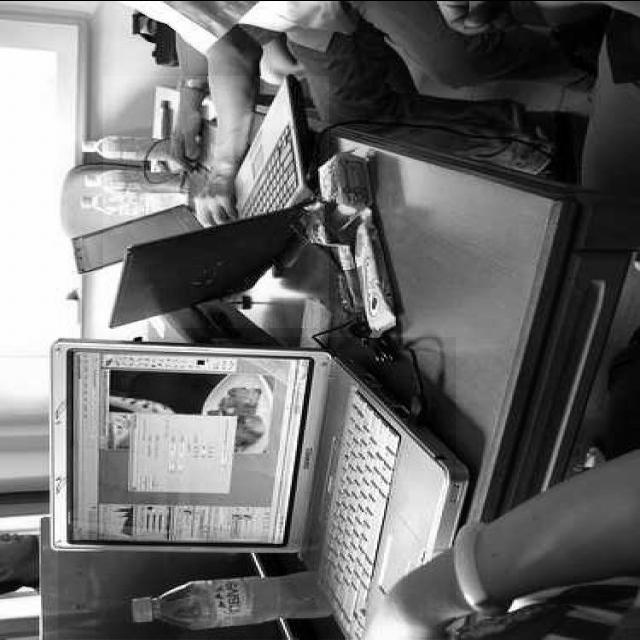-keyboard-: (59, 338, 456, 640), (103, 76, 330, 328)
